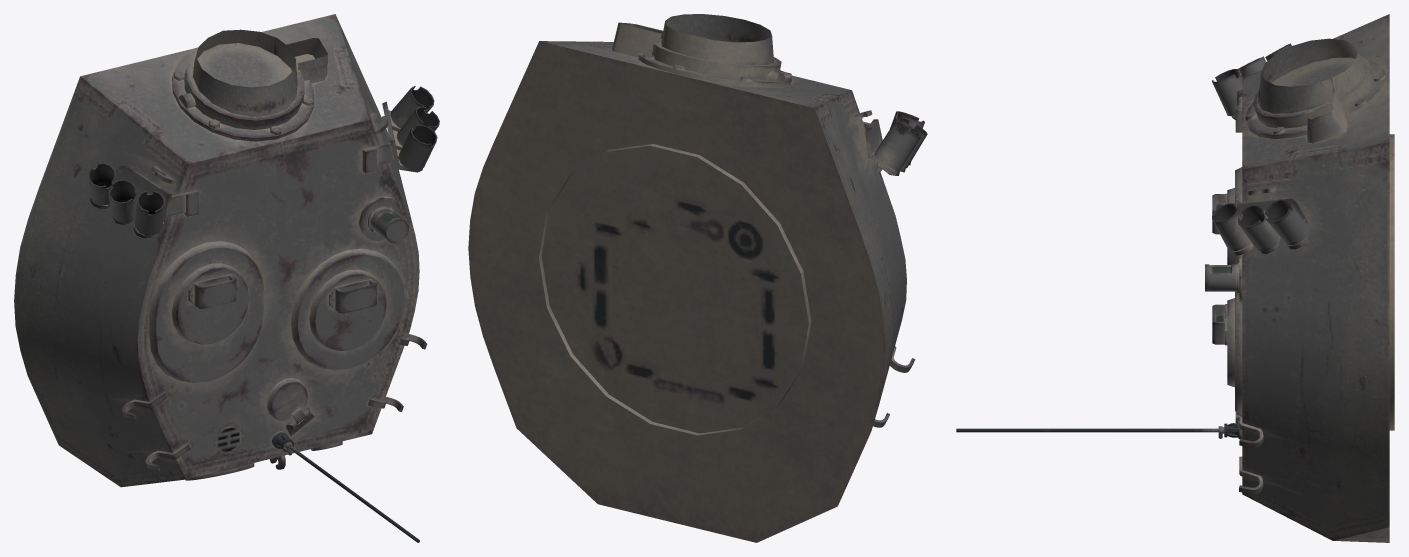
Rendered from Turret_02.glb.
The picture shows the model from 3 angles, left to right: view 1: azimuth 30°, elevation 25°; view 2: azimuth 150°, elevation 25°; view 3: azimuth 270°, elevation 25°; orthographic projection. The views are drawn at different scales.
Parts seen in each view (by area): view 1: set_0_group_0; view 2: set_0_group_0; view 3: set_0_group_0.
Boxes of the visible parts, x1,y1,x2,y2 form: set_0_group_0: (14, 14, 439, 542); set_0_group_0: (468, 14, 927, 542); set_0_group_0: (956, 14, 1394, 542).
Size of the model in its own units: 1.72 by 1.87 by 1.64.
Materials: 1 (1 with a texture image).
